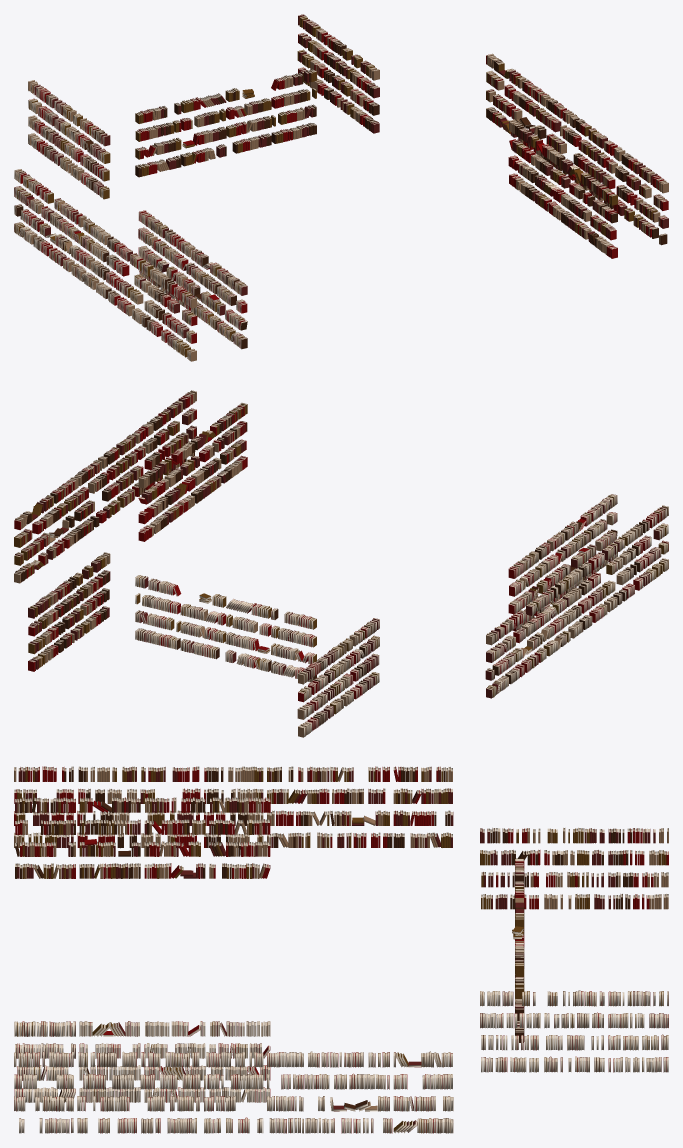
File: books1.glb
3 views of the same model, one above another, from view 1: azimuth 30°, elevation 25°; view 2: azimuth 150°, elevation 25°; view 3: azimuth 270°, elevation 25° (orthographic). The views are drawn at different scales.
Parts seen in each view (by area): view 1: book_wall_nice, books_nice_front, books_side, books_nice_front2; view 2: book_wall_nice, books_nice_front, books_side, books_nice_front2; view 3: book_wall_nice, books_nice_front, books_side, books_nice_front2.
Part boxes in pixels (bbox=[...]): book_wall_nice: bbox=[14, 53, 668, 361]; books_nice_front: bbox=[138, 119, 617, 349]; books_side: bbox=[28, 14, 379, 199]; books_nice_front2: bbox=[135, 69, 316, 177]; book_wall_nice: bbox=[14, 390, 668, 698]; books_nice_front: bbox=[138, 403, 617, 630]; books_side: bbox=[28, 552, 379, 737]; books_nice_front2: bbox=[135, 575, 316, 682]; book_wall_nice: bbox=[14, 766, 453, 1133]; books_nice_front: bbox=[14, 797, 270, 1102]; books_side: bbox=[480, 828, 668, 1072]; books_nice_front2: bbox=[512, 858, 524, 1042].
Bounding box in the file's own units: 25.94 × 3.27 × 24.81.
1 material, 1 textured.
